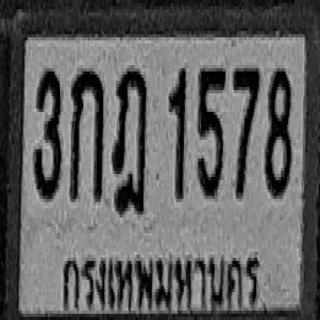A01: (69, 67, 104, 200)
A14: (112, 67, 147, 213)
N01: (168, 65, 187, 199)
N03: (33, 67, 61, 197)
N05: (197, 65, 226, 196)
N07: (233, 64, 260, 197)
N08: (264, 65, 291, 196)
P04: (59, 247, 266, 318)
